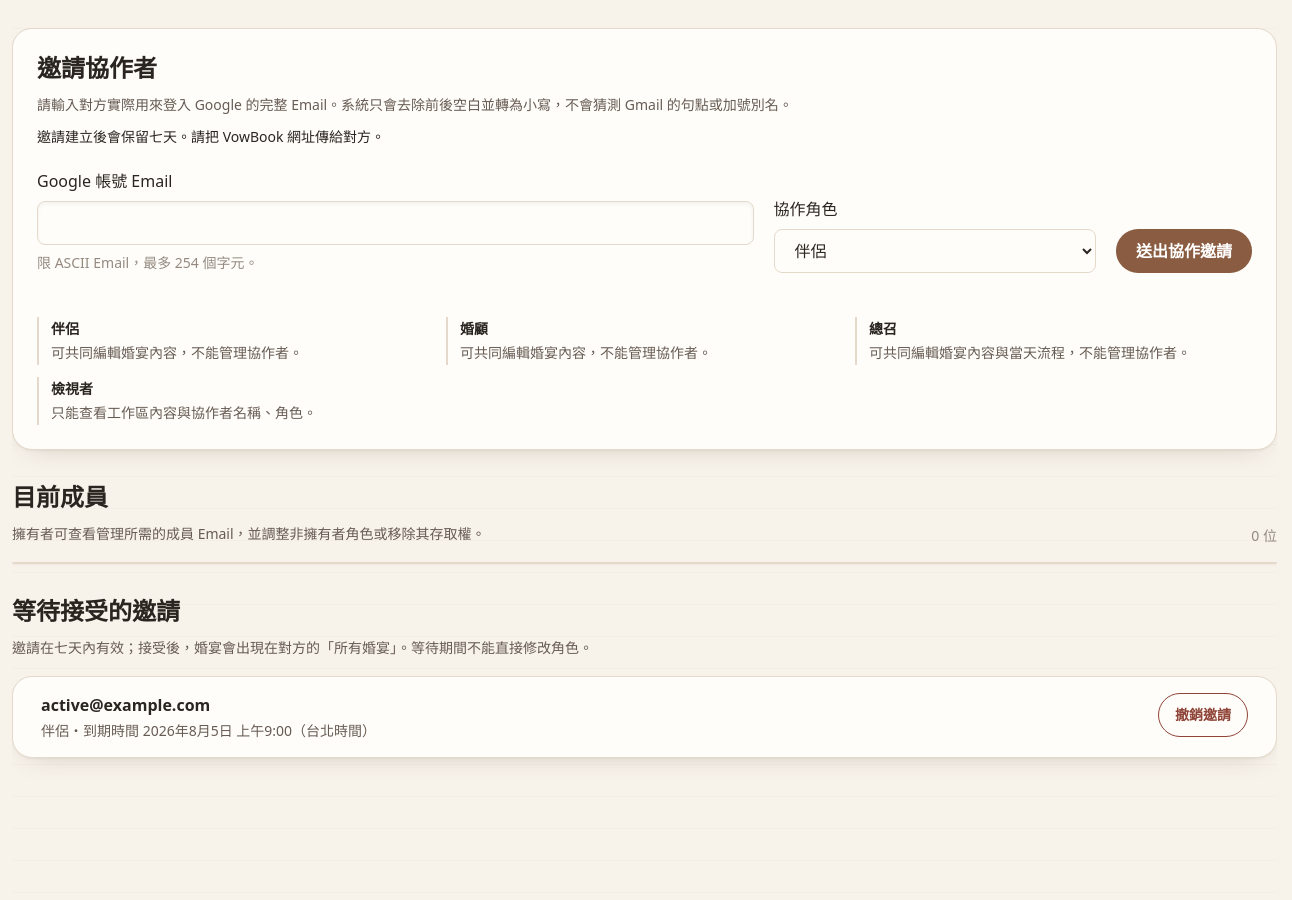
it: WorkspaceMembersPanel › submits revoke id plus version and keeps stable feedback/focus
Step 1. Click the button with aria-label "撤銷給 active@example.com 的邀請" → (1203, 715), box left=1158, top=693, right=1248, bottom=737
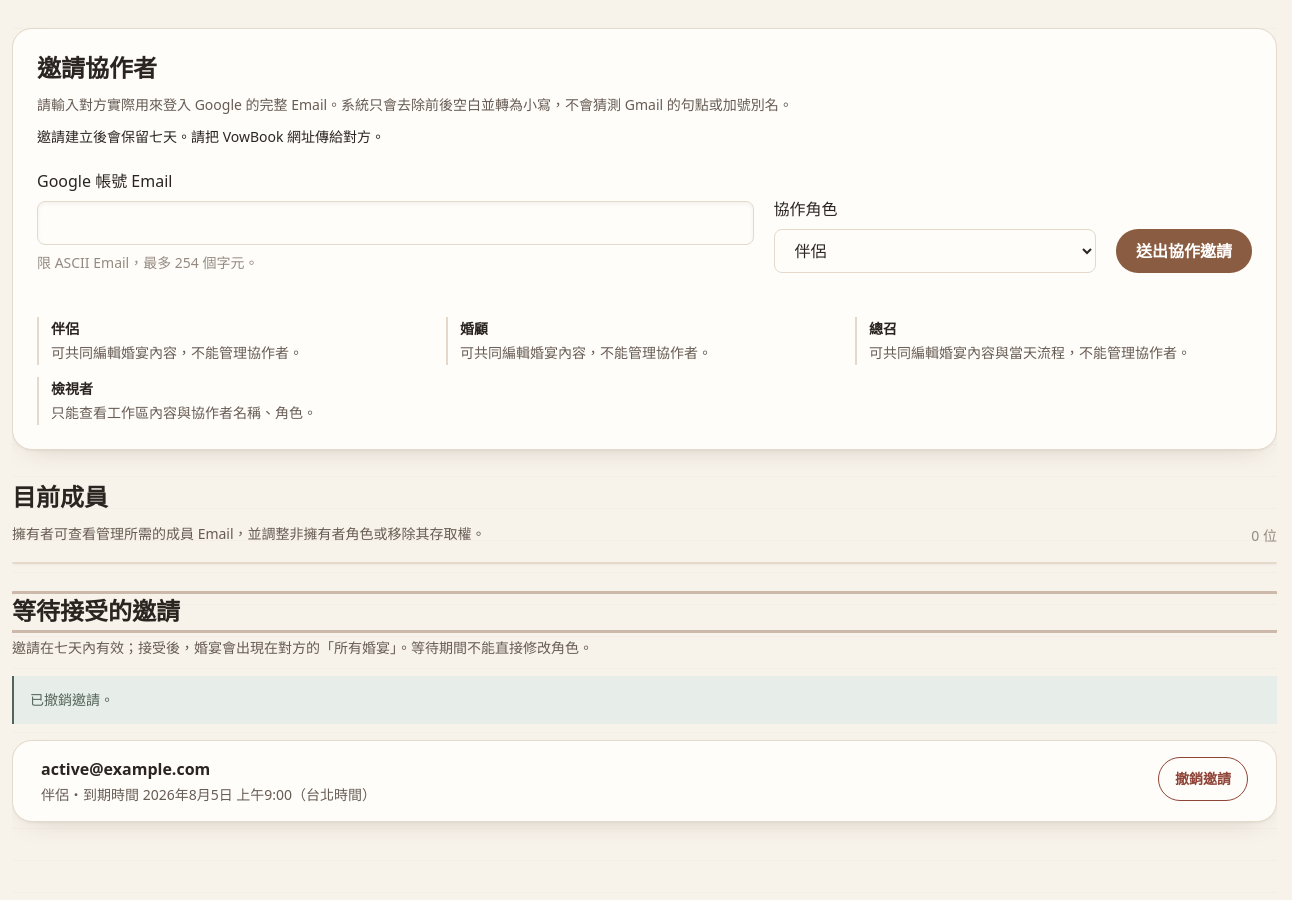
Now the message reads "已撤銷邀請。", box left=30, top=690, right=114, bottom=709
